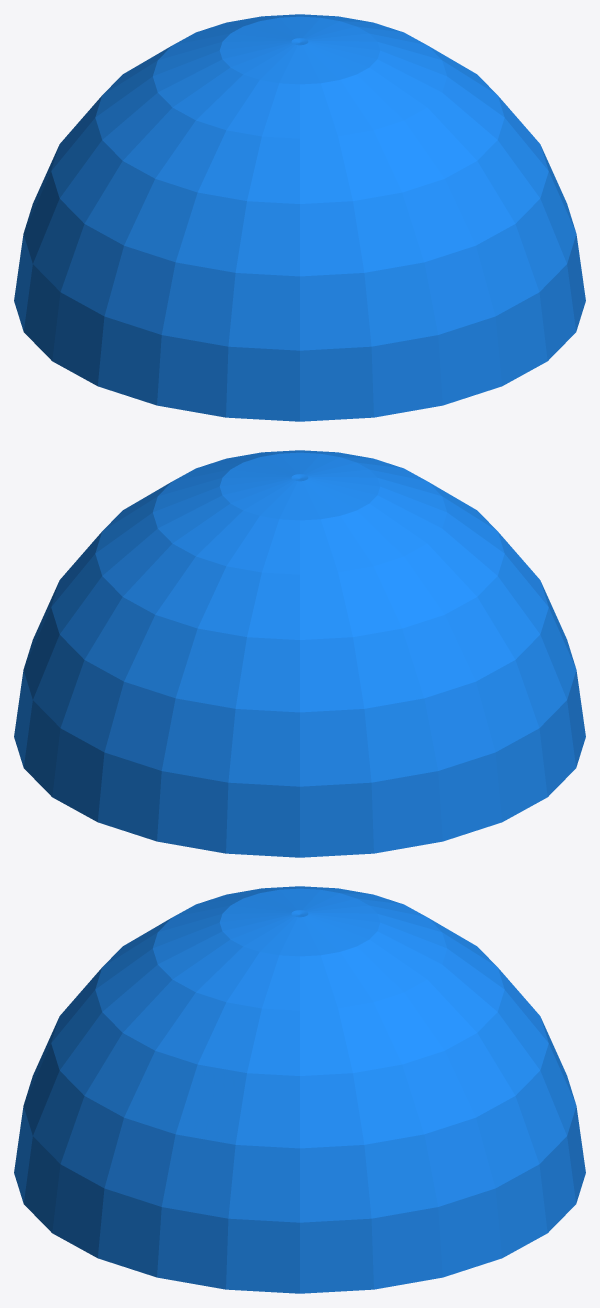
File: Proto_Block_Hemisphere_Hedron_01.fbx
The picture shows the model from 3 angles, top to bottom: view 1: azimuth 30°, elevation 25°; view 2: azimuth 150°, elevation 25°; view 3: azimuth 270°, elevation 25°; orthographic projection.
Parts seen in each view (by area): view 1: Proto_Block_Hemisphere_Hedron_01; view 2: Proto_Block_Hemisphere_Hedron_01; view 3: Proto_Block_Hemisphere_Hedron_01.
Part boxes in pixels (left/top/right/bottom): Proto_Block_Hemisphere_Hedron_01: left=14, top=14, right=585, bottom=421; Proto_Block_Hemisphere_Hedron_01: left=14, top=450, right=585, bottom=857; Proto_Block_Hemisphere_Hedron_01: left=14, top=886, right=585, bottom=1293.
Bounding box in the file's own units: 1 × 0.5 × 1.
